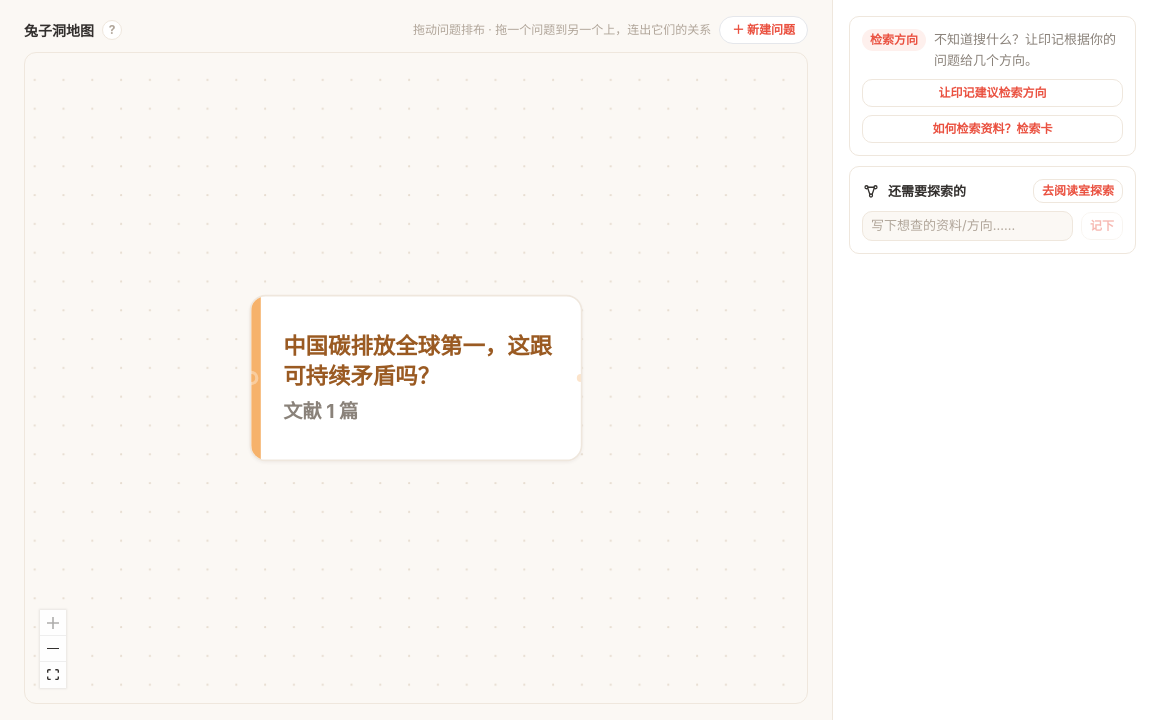
Test case: ExplorationView › both levels dock the exploration CONTROLS (检索方向 / 还需要探索的) beside the centered graph; the coach lives in the constant 印记 rail
expect the text "检索方向" is shown: met, box [862, 29, 926, 51]
expect the heading "还需要探索的" is shown: met, box [888, 182, 966, 201]
Step 1. Click the text "中国碳排放全球第一，这跟可持续矛盾吗？" → (422, 360), box [283, 330, 562, 391]
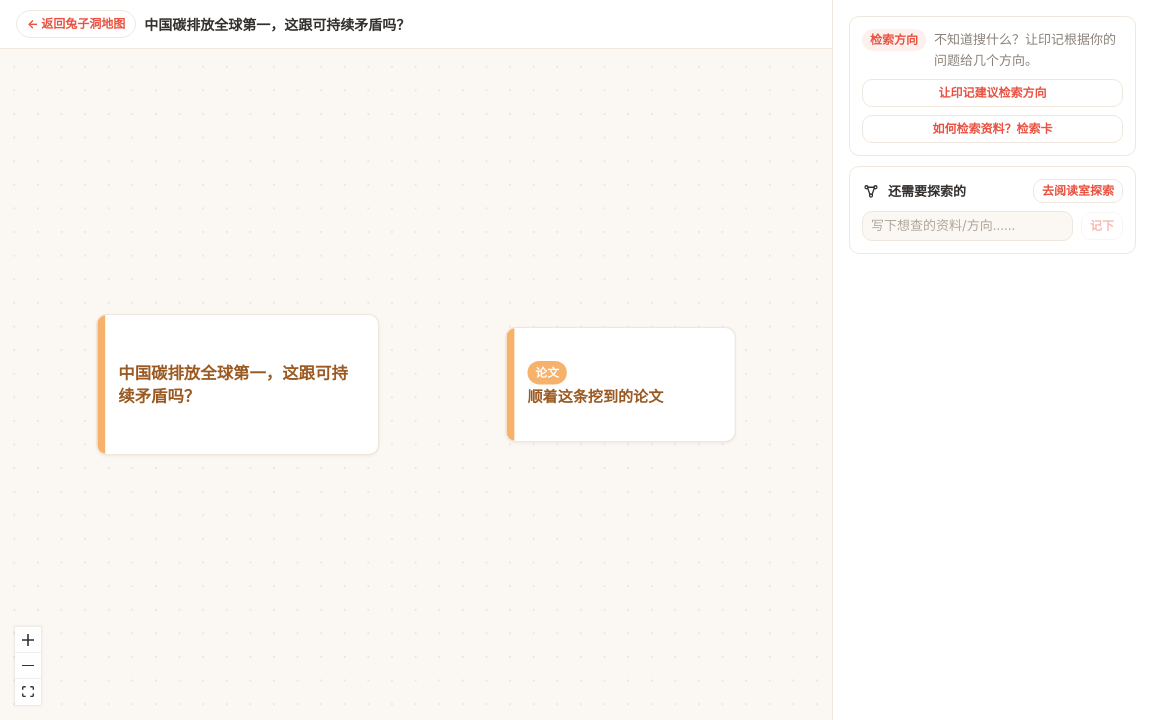
expect the text "检索方向" is shown: met, box [862, 29, 926, 51]
expect the button "← 返回兔子洞地图" is shown: met, box [16, 10, 136, 38]
